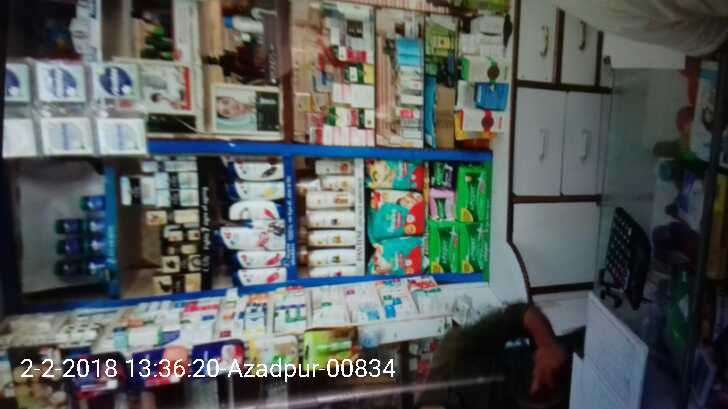vicks: (55, 192, 108, 286)
